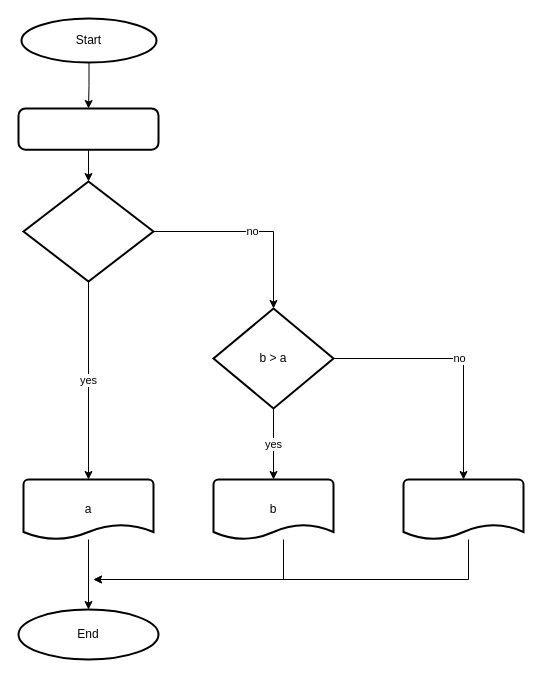
Some shapes in this 541 by 677 pixel diagram are drawn without their labels. The shapes that lost their labels are listed below. From the top down, each one's box as (x1, y1, x2, y2) in pixels, then its label:
(17, 107, 159, 150): a, b 입력
(22, 180, 154, 282): a > b
(402, 478, 524, 540): a와 b는 같습니다.
